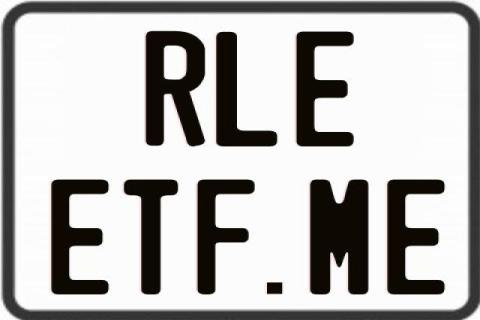E: (386, 179, 449, 296), (50, 178, 111, 294), (296, 29, 354, 145)
F: (195, 178, 254, 294)
L: (215, 31, 278, 147)
M: (310, 177, 368, 293)
R: (146, 31, 211, 151)
T: (122, 179, 178, 296)
